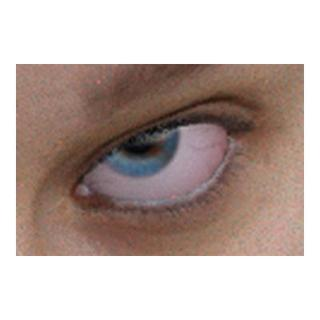pupil: (120, 118, 155, 153)
